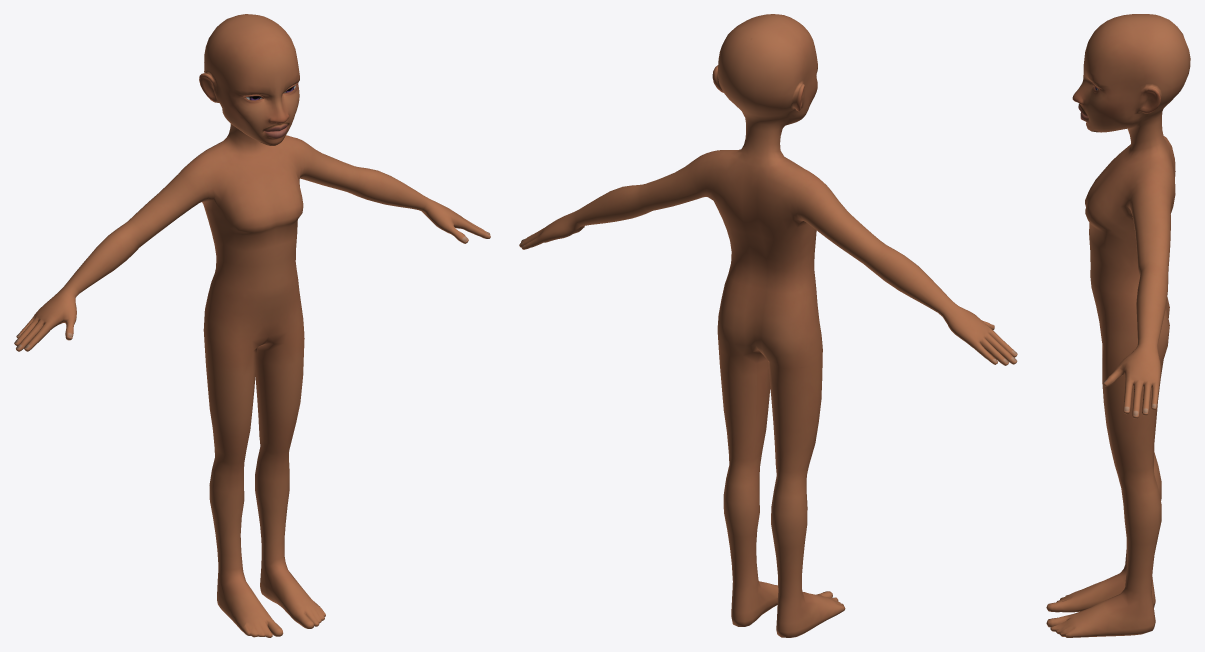
File: frame_0085.glb
3 renders of one model, left to right at view 1: azimuth 30°, elevation 25°; view 2: azimuth 150°, elevation 25°; view 3: azimuth 270°, elevation 25°, orthographic. The views are drawn at different scales.
Visible parts, largest first — view 1: frame_0085_head_geo; view 2: frame_0085_head_geo; view 3: frame_0085_head_geo.
Part boxes in pixels (left/top/right/bottom): frame_0085_head_geo: left=14, top=14, right=490, bottom=637; frame_0085_head_geo: left=519, top=14, right=1017, bottom=637; frame_0085_head_geo: left=1046, top=14, right=1190, bottom=637.
Bounding box in the file's own units: 1.28 × 1.5 × 0.3253.
3 materials, 3 textured.
